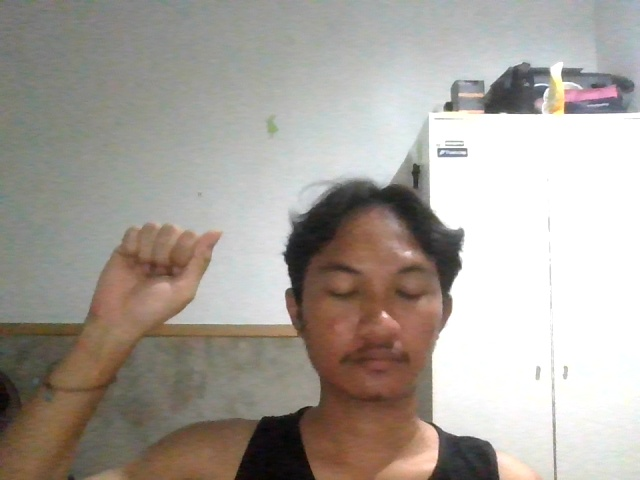a: (72, 196, 231, 362)
